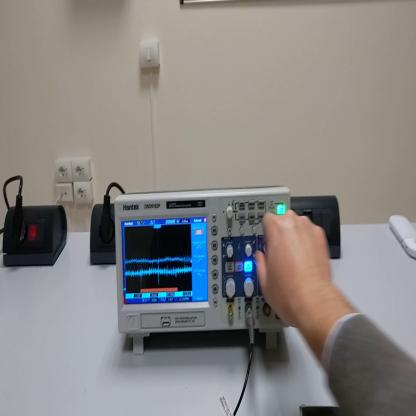hand: (252, 208, 334, 330)
oscilloscope: (116, 184, 293, 354)
socket: (5, 206, 69, 270), (90, 204, 117, 268)
